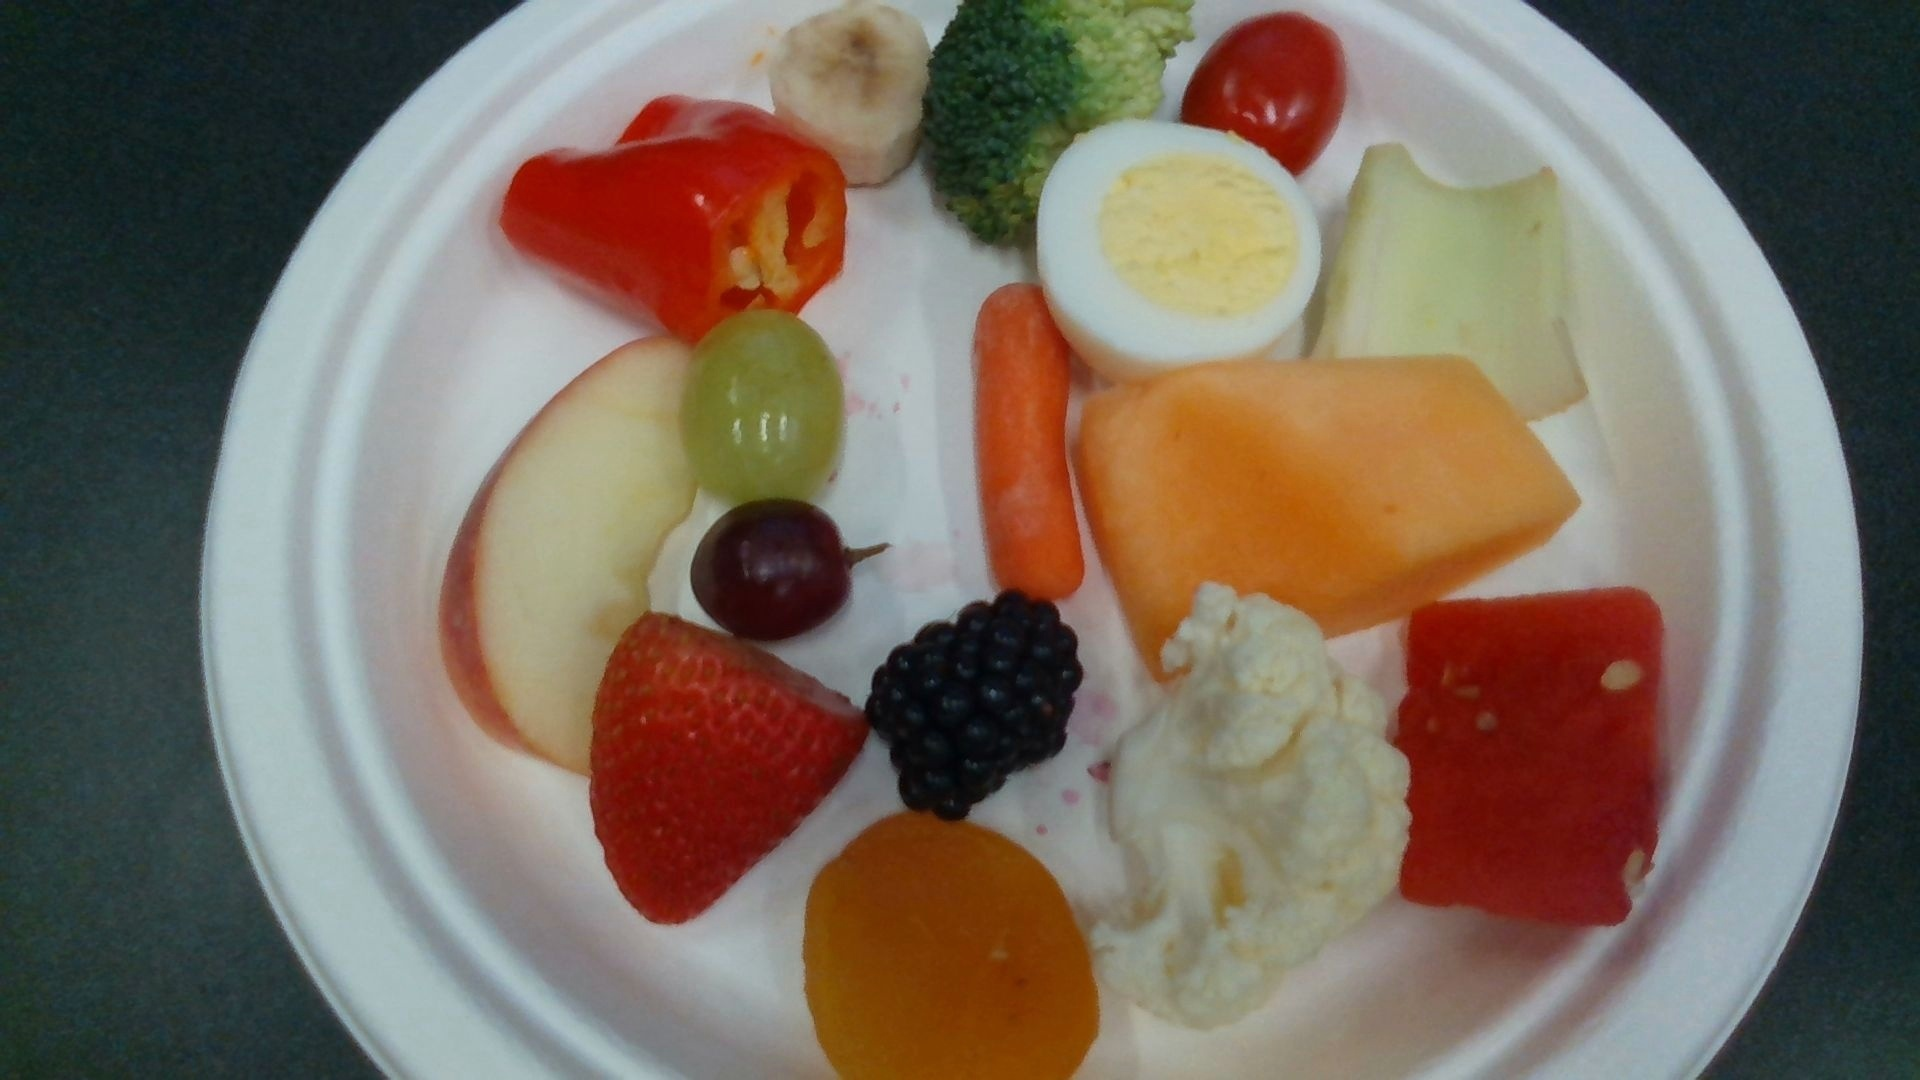apple: (440, 342, 695, 771)
apricot: (804, 814, 1097, 1077)
banana: (770, 5, 934, 183)
bell_pepper: (504, 98, 845, 335)
blackberry: (866, 595, 1079, 818)
broccoli: (920, 1, 1192, 245)
cantalope: (1073, 357, 1577, 683)
carrot: (977, 284, 1084, 597)
cauliflower: (1095, 582, 1407, 1021)
celery: (1307, 148, 1590, 418)
cherry_tomato: (1182, 11, 1345, 173)
egg: (1036, 120, 1319, 375)
grape_green: (679, 313, 840, 498)
grape_purple: (688, 500, 851, 636)
melon: (1394, 589, 1669, 923)
strawberry: (593, 615, 860, 920)
